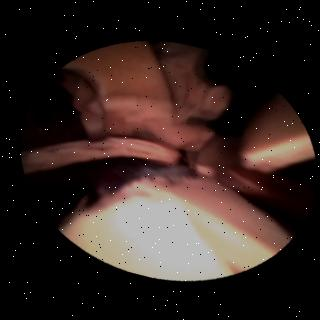stone: (22, 43, 312, 274)
